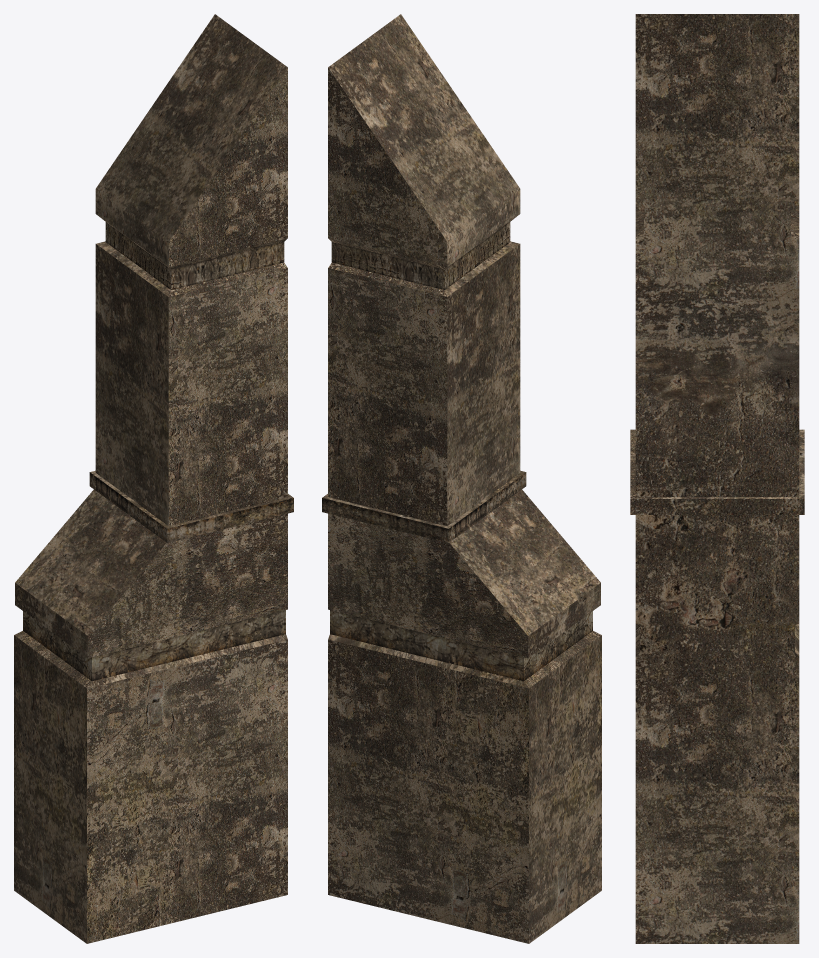
The model's file is materials_5_pillar_long_10.fbx.
3 views of the same model, side by side, from view 1: azimuth 30°, elevation 25°; view 2: azimuth 150°, elevation 25°; view 3: azimuth 270°, elevation 25° (orthographic). The views are drawn at different scales.
Parts seen in each view (by area): view 1: materials_5_pillar_long_10; view 2: materials_5_pillar_long_10; view 3: materials_5_pillar_long_10.
Boxes of the visible parts, x1,y1,x2,y2 form: materials_5_pillar_long_10: (14, 14, 293, 943); materials_5_pillar_long_10: (322, 14, 601, 943); materials_5_pillar_long_10: (630, 14, 804, 943).
Bounding box in the file's own units: 161 × 622 × 105.
